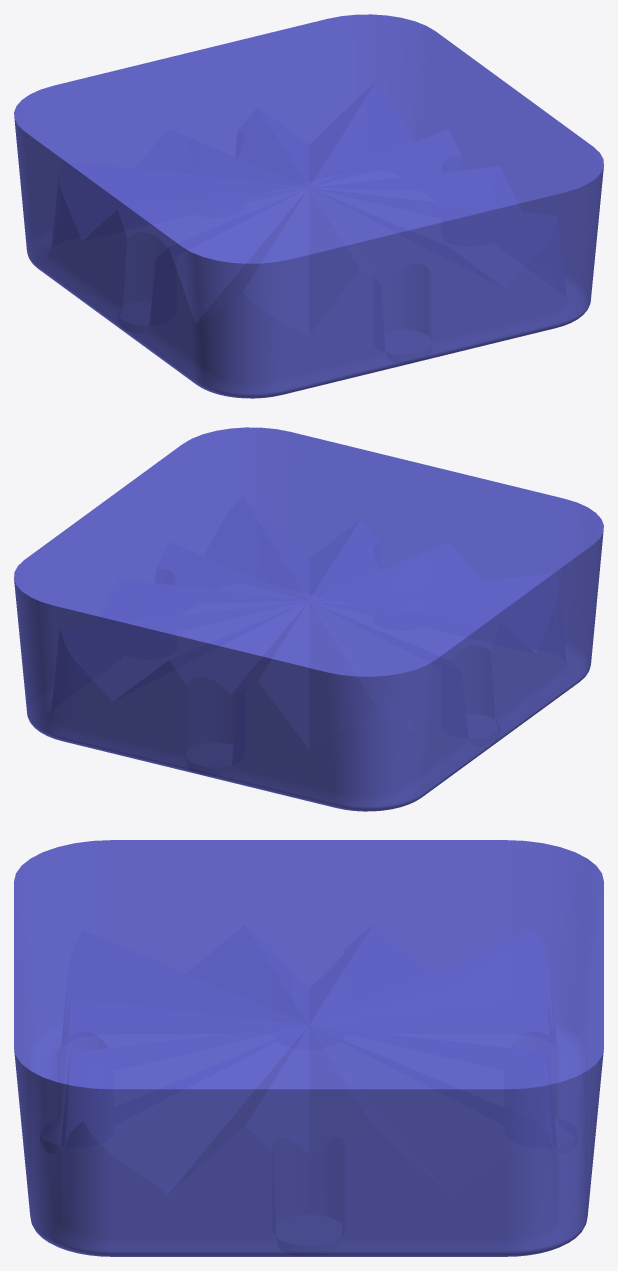
Rendered from Insert 0.75' Square, Starbust (PL-34SSB).fbx.
3 views of the same model, one above another, from view 1: azimuth 30°, elevation 25°; view 2: azimuth 150°, elevation 25°; view 3: azimuth 270°, elevation 25° (orthographic). The views are drawn at different scales.
Visible parts, largest first — view 1: Insert 0.75' Square, Starbust (PL-34SSB); view 2: Insert 0.75' Square, Starbust (PL-34SSB); view 3: Insert 0.75' Square, Starbust (PL-34SSB).
Boxes of the visible parts, x1,y1,x2,y2 form: Insert 0.75' Square, Starbust (PL-34SSB): [14, 14, 603, 398]; Insert 0.75' Square, Starbust (PL-34SSB): [14, 427, 603, 811]; Insert 0.75' Square, Starbust (PL-34SSB): [14, 840, 603, 1256].
Bounding box in the file's own units: 1.9 × 0.635 × 1.9.
